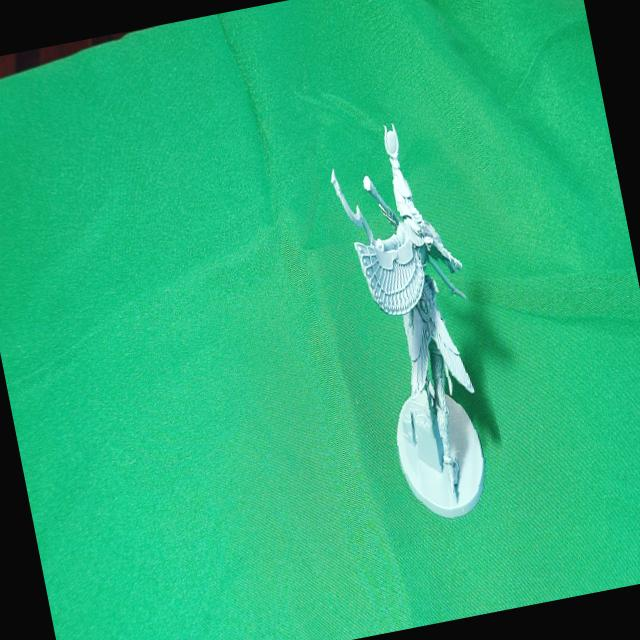isis: (310, 103, 516, 548)
